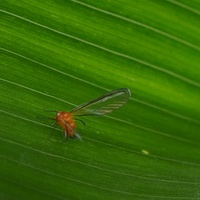insect: (55, 88, 130, 139)
